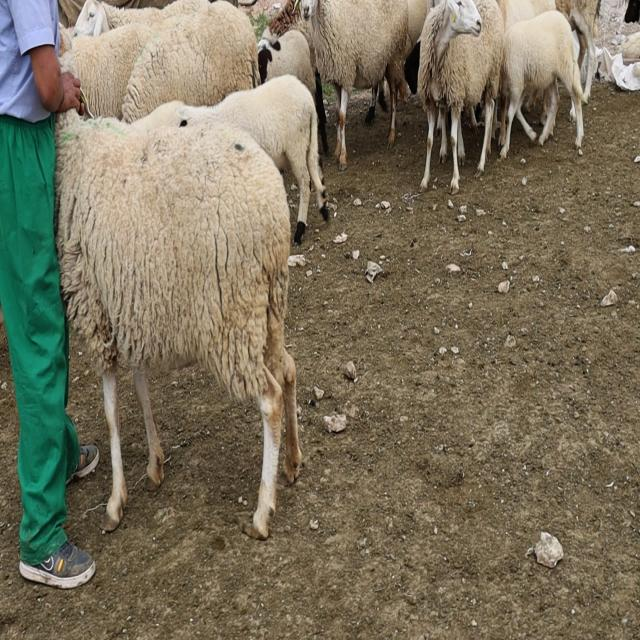Score_5: (55, 120, 302, 539)
